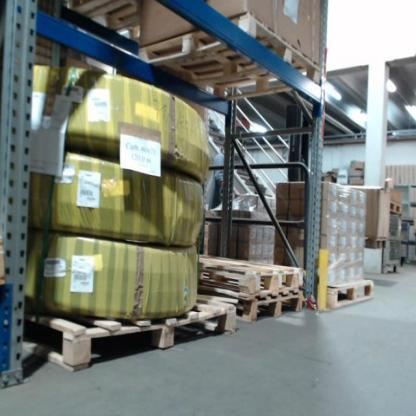pallets: (22, 258, 314, 386), (132, 1, 328, 101), (323, 278, 376, 311), (381, 199, 411, 214)
